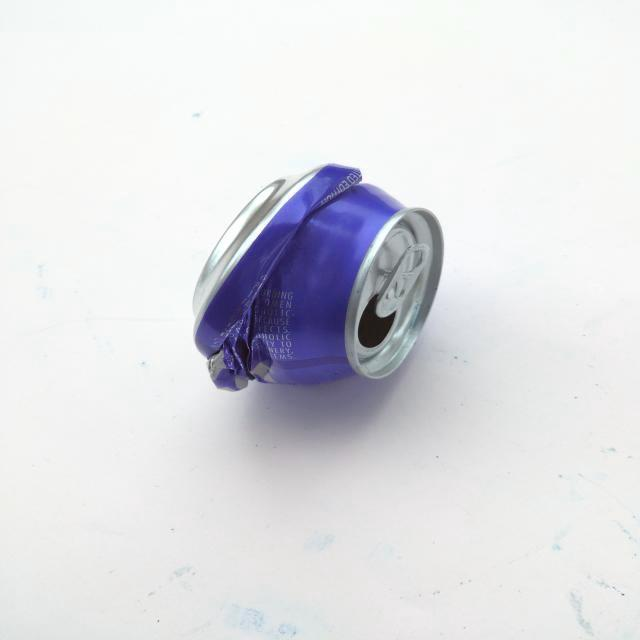metal: (172, 155, 464, 396)
